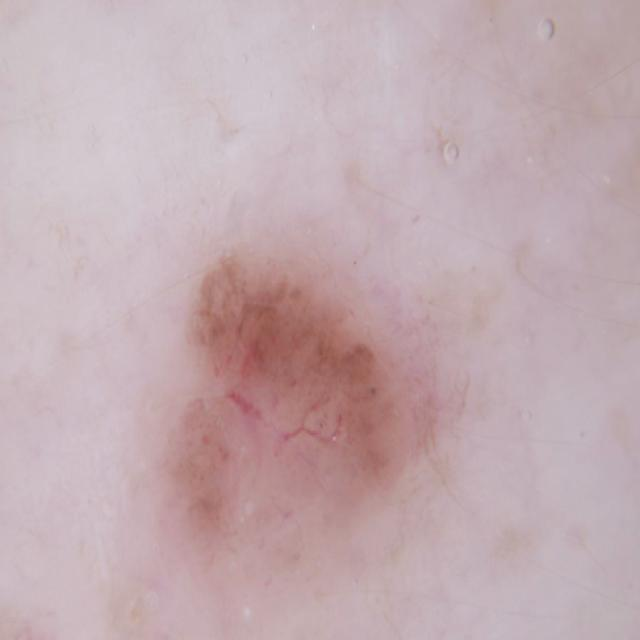Carcinoma: (111, 212, 494, 594)
